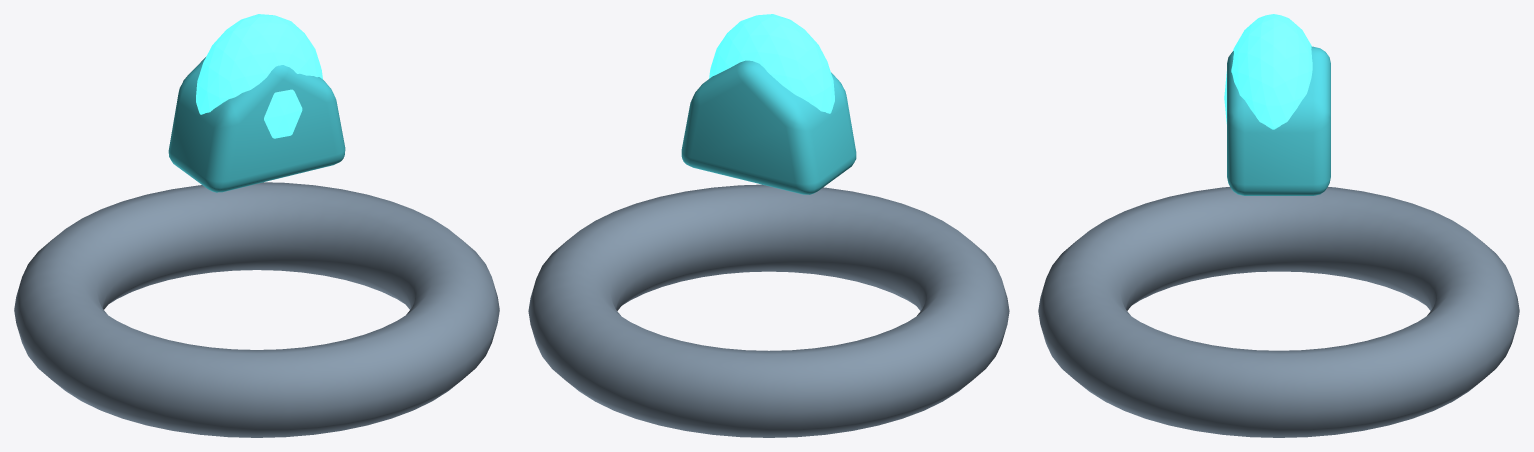
The model's file is ring.glb.
The picture shows the model from 3 angles, left to right: view 1: azimuth 30°, elevation 25°; view 2: azimuth 150°, elevation 25°; view 3: azimuth 270°, elevation 25°; orthographic projection.
Parts seen in each view (by area): view 1: RING_BAND_PRIMARY, RING_SETTING_ACCENT, RING_GEM_EMISSIVE; view 2: RING_BAND_PRIMARY, RING_SETTING_ACCENT, RING_GEM_EMISSIVE; view 3: RING_BAND_PRIMARY, RING_SETTING_ACCENT, RING_GEM_EMISSIVE.
Part boxes in pixels (box(x1,y1,x2,y2)): RING_BAND_PRIMARY: box(14, 182, 499, 437); RING_SETTING_ACCENT: box(168, 57, 345, 192); RING_GEM_EMISSIVE: box(196, 14, 322, 138); RING_BAND_PRIMARY: box(528, 184, 1009, 437); RING_SETTING_ACCENT: box(681, 60, 856, 194); RING_GEM_EMISSIVE: box(709, 14, 834, 113); RING_BAND_PRIMARY: box(1038, 187, 1519, 437); RING_SETTING_ACCENT: box(1227, 46, 1330, 195); RING_GEM_EMISSIVE: box(1224, 14, 1312, 129).
Bounding box in the file's own units: 1.76 × 1.34 × 1.76.
